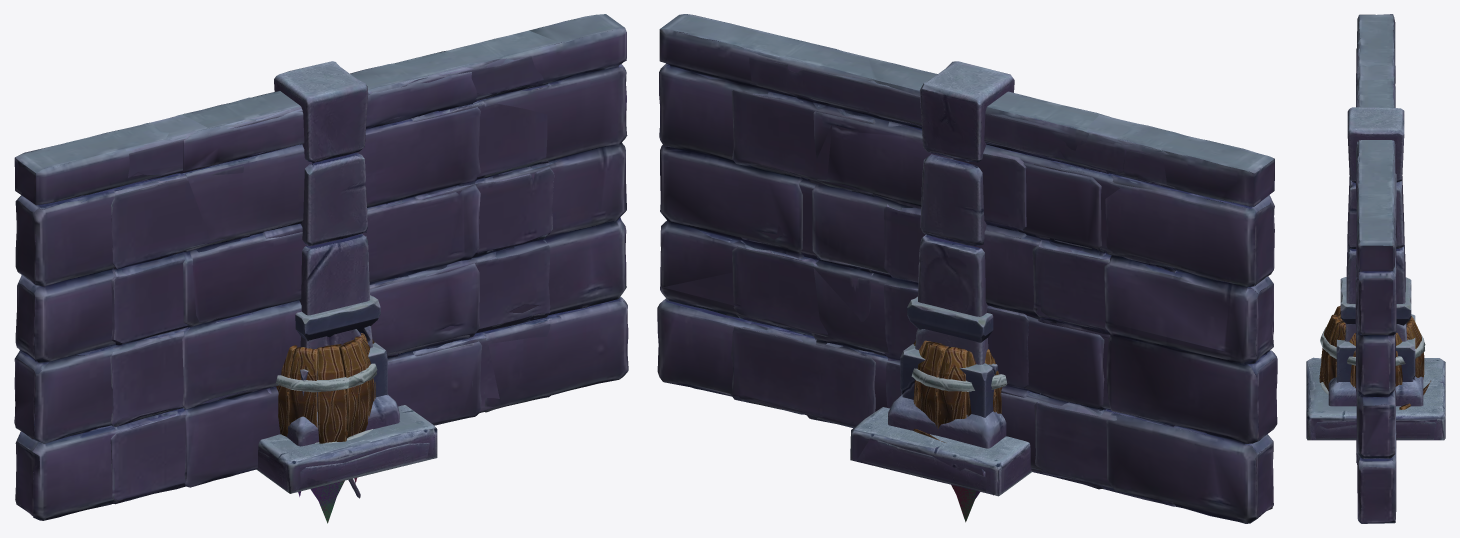
Rendered from dungeon_kit.glb.
3 views of the same model, side by side, from view 1: azimuth 30°, elevation 25°; view 2: azimuth 150°, elevation 25°; view 3: azimuth 270°, elevation 25° (orthographic). The views are drawn at different scales.
Parts seen in each view (by area): view 1: muro_c, muro, muro_b, pilar, barril_roto, losa_1, muro_d, brasero, losa_3; view 2: muro_c, muro_d, pilar, muro_b, muro, losa_1, brasero, barril_abierto, losa_2; view 3: muro_c, pilar, losa_1, brasero, barril_roto, losa_3, muro_b, barril_abierto, barril, muro_d, muro, losa_2.
Part boxes in pixels (bbox=[...]): muro_c: bbox=[14, 14, 628, 520]; muro: bbox=[180, 72, 482, 487]; muro_b: bbox=[110, 44, 554, 504]; pilar: bbox=[274, 61, 399, 446]; barril_roto: bbox=[275, 333, 377, 443]; losa_1: bbox=[256, 405, 437, 493]; muro_d: bbox=[110, 37, 554, 502]; brasero: bbox=[295, 295, 387, 411]; losa_3: bbox=[258, 443, 429, 489]; muro_c: bbox=[657, 14, 1277, 523]; muro_d: bbox=[730, 46, 1191, 506]; pilar: bbox=[888, 61, 1014, 448]; muro_b: bbox=[732, 47, 1199, 506]; muro: bbox=[806, 103, 1108, 489]; losa_1: bbox=[850, 407, 1032, 496]; brasero: bbox=[900, 296, 997, 417]; barril_abierto: bbox=[911, 340, 1005, 428]; losa_2: bbox=[855, 428, 1030, 491]; muro_c: bbox=[1356, 14, 1396, 523]; pilar: bbox=[1328, 107, 1423, 406]; losa_1: bbox=[1306, 357, 1445, 440]; brasero: bbox=[1336, 277, 1415, 382]; barril_roto: bbox=[1319, 305, 1430, 409]; losa_3: bbox=[1315, 416, 1436, 439]; muro_b: bbox=[1356, 48, 1396, 466]; barril_abierto: bbox=[1340, 316, 1424, 386]; barril: bbox=[1329, 318, 1425, 388]; muro_d: bbox=[1356, 48, 1396, 492]; muro: bbox=[1355, 72, 1359, 464]; losa_2: bbox=[1306, 377, 1445, 439].
Bounding box in the file's own units: 3.89 × 2.77 × 0.985.
14 materials, 14 textured.
